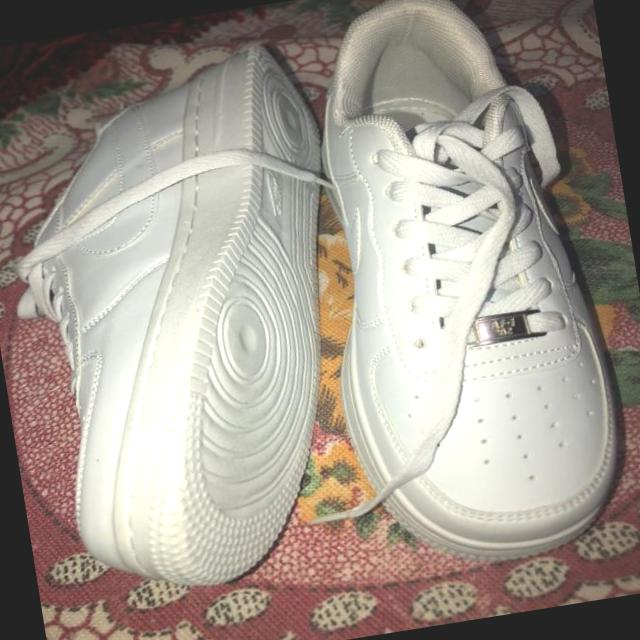nike_fake_airforce: (0, 16, 387, 607), (282, 0, 640, 579)
